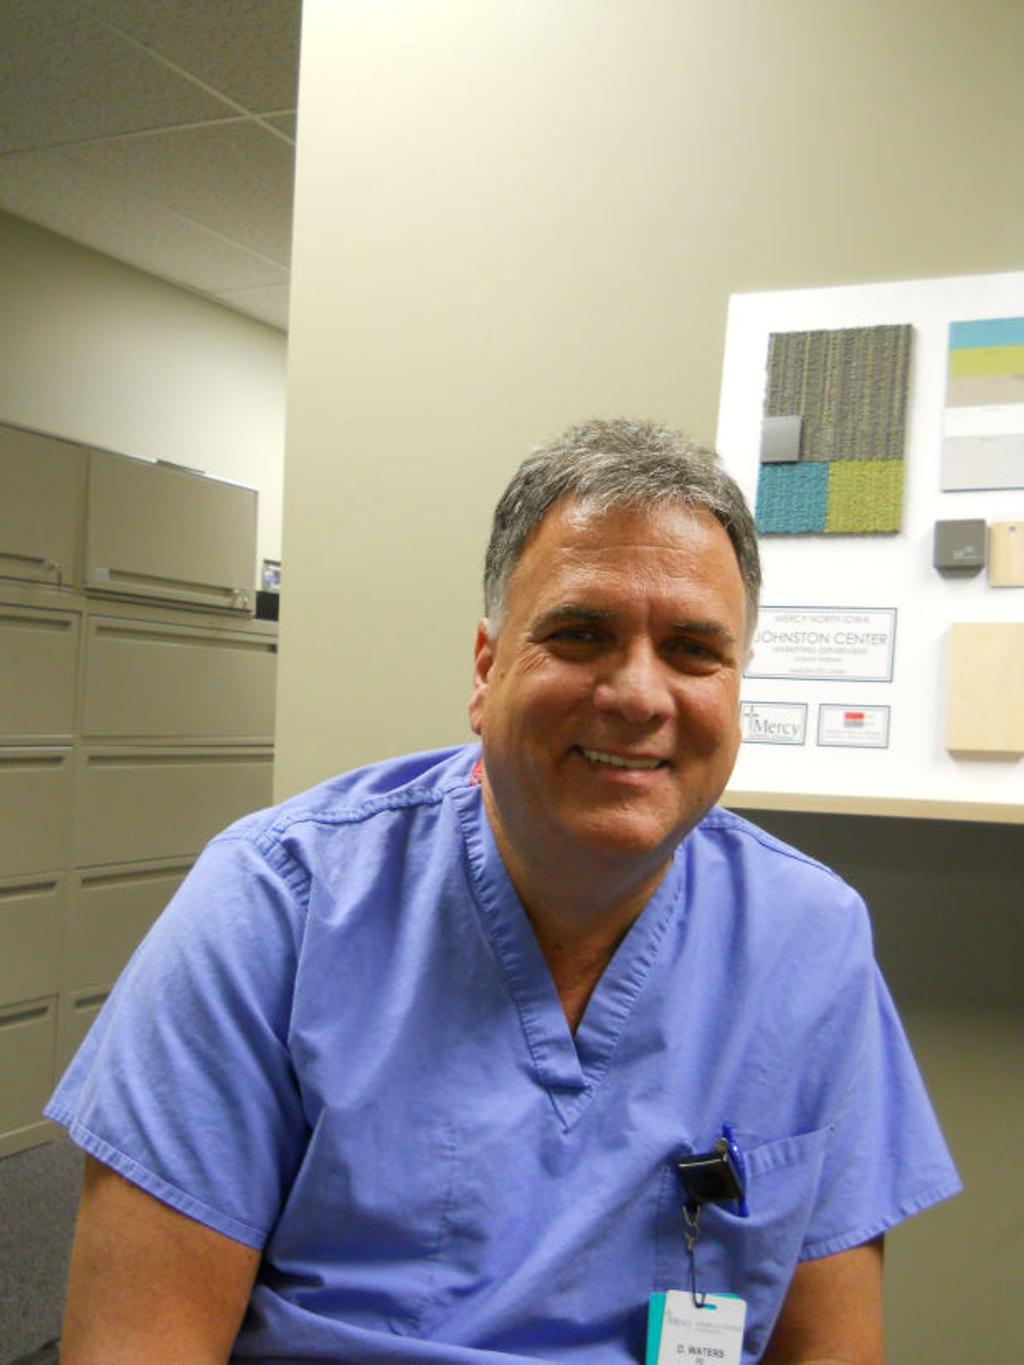face: (494, 497, 742, 862)
